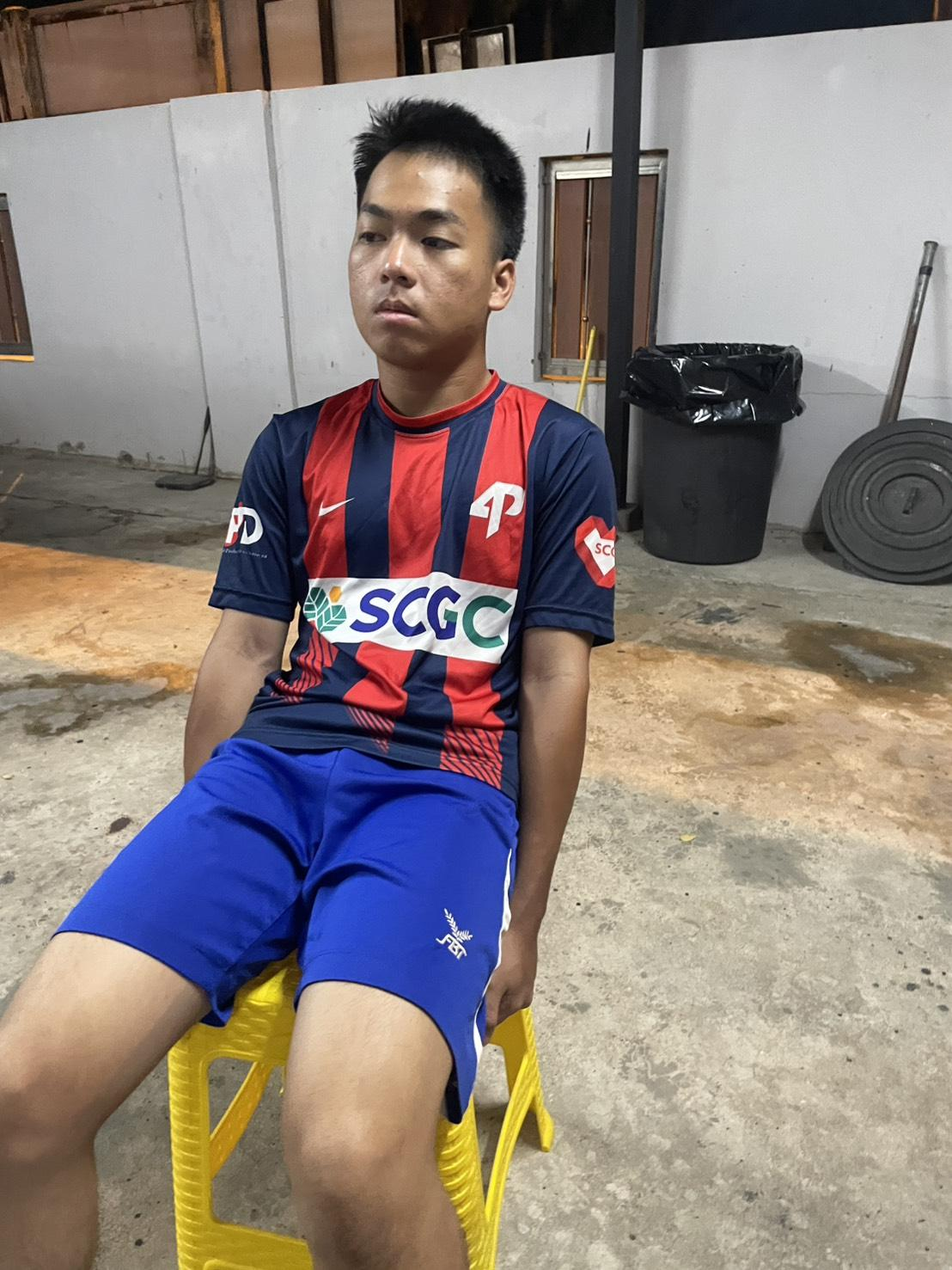BadPosture: (186, 99, 614, 804)
